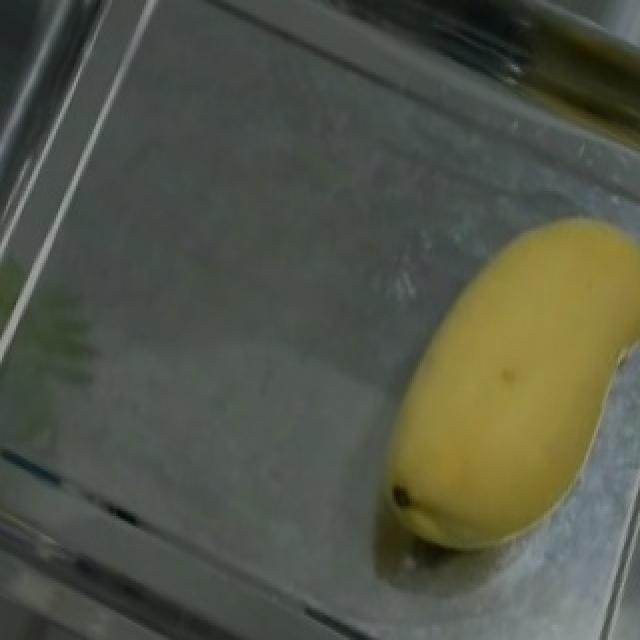fruit: (378, 169, 640, 553)
